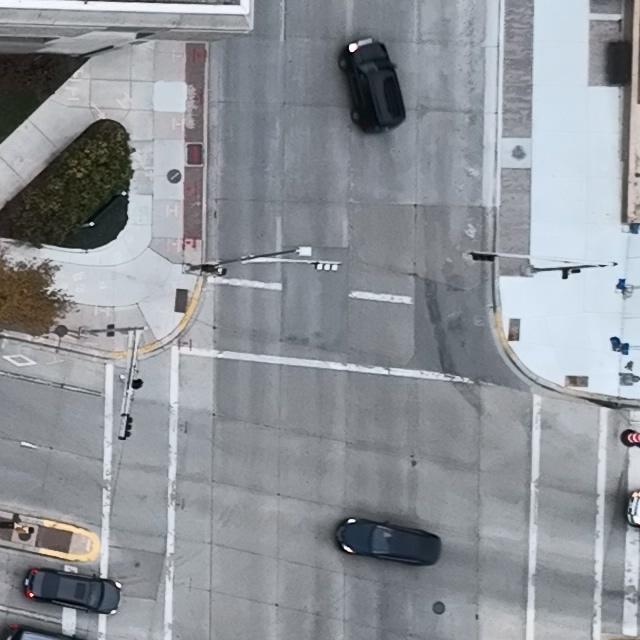car: (338, 38, 406, 133), (334, 517, 441, 566), (24, 568, 122, 615)
